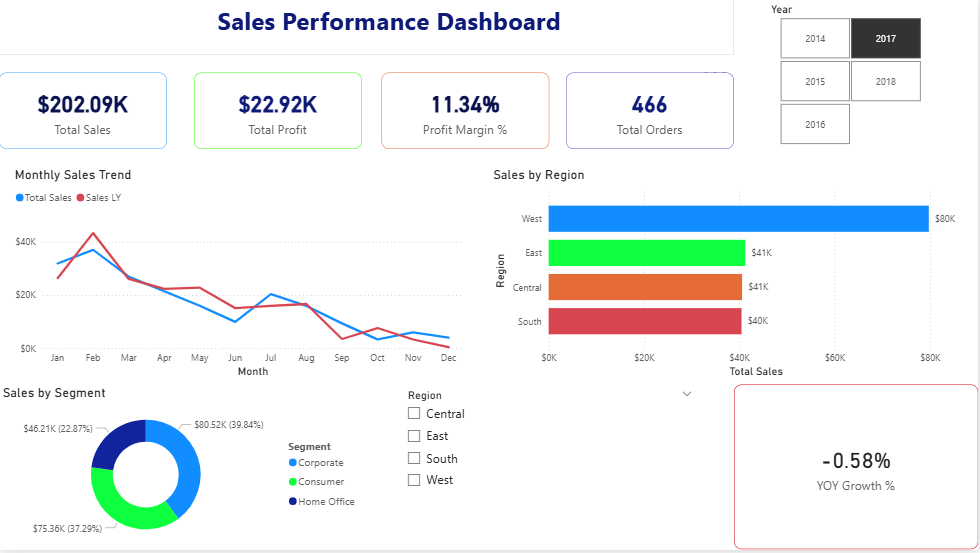

The page's visual inventory and layout, read from the dashboard file:
{"tool":"powerbi","page":{"name":"Executive Overview","canvas":[1280,720],"ordinal":0},"visuals":[{"type":"textbox","box":[0,0,960,71.8],"z":0},{"type":"card","fields":{"Values":["_Measures.Total Sales"]},"box":[0,96.4,219.2,100.2],"z":1000},{"type":"card","fields":{"Values":["_Measures.Total Profit"]},"box":[255.1,96.4,219.2,100.2],"z":2000},{"type":"card","fields":{"Values":["_Measures.Profit Margin %"]},"box":[500.8,96.4,219.2,100.2],"z":3000},{"type":"card","fields":{"Values":["_Measures.Total Orders"]},"box":[740.8,96.4,219.2,100.2],"z":4000},{"type":"lineChart","title":"Monthly Sales Trend","fields":{"Y":["_Measures.Total Sales","_Measures.Sales LY"],"Category":["Date Table.Month"]},"box":[15.1,219.2,595.3,279.7],"z":5000},{"type":"slicer","fields":{"Values":["Date Table.Year"]},"box":[995.9,0,232.4,196.5],"z":6000},{"type":"clusteredBarChart","title":"Sales by Region","fields":{"Category":["Sample - Superstore.Region"],"Y":["_Measures.Total Sales"]},"box":[640.6,219.2,638.7,279.7],"z":7000},{"type":"donutChart","title":"Sales by Segment","fields":{"Y":["_Measures.Total Sales"],"Category":["Sample - Superstore.Segment"]},"box":[0,504.6,480,215.4],"z":8000},{"type":"slicer","fields":{"Values":["Sample - Superstore.Region"]},"box":[521.6,504.6,396.9,215.4],"z":9000},{"type":"card","fields":{"Values":["_Measures.YOY Growth %"]},"box":[960,504.6,319.4,215.4],"z":10000}]}

Visuals, with their boxes in screenshot pixels (x1, y1, x2, y2), scaled from the page's 1280x720 canvas onto the 980x553 screenshot:
textbox: rect(0, 0, 735, 55)
card - _Measures.Total Sales: rect(0, 74, 168, 151)
card - _Measures.Total Profit: rect(195, 74, 363, 151)
card - _Measures.Profit Margin %: rect(383, 74, 551, 151)
card - _Measures.Total Orders: rect(567, 74, 735, 151)
"Monthly Sales Trend" lineChart: rect(12, 168, 467, 383)
slicer - Date Table.Year: rect(762, 0, 940, 151)
"Sales by Region" clusteredBarChart: rect(490, 168, 979, 383)
"Sales by Segment" donutChart: rect(0, 388, 368, 552)
slicer - Sample - Superstore.Region: rect(399, 388, 703, 552)
card - _Measures.YOY Growth %: rect(735, 388, 979, 552)
